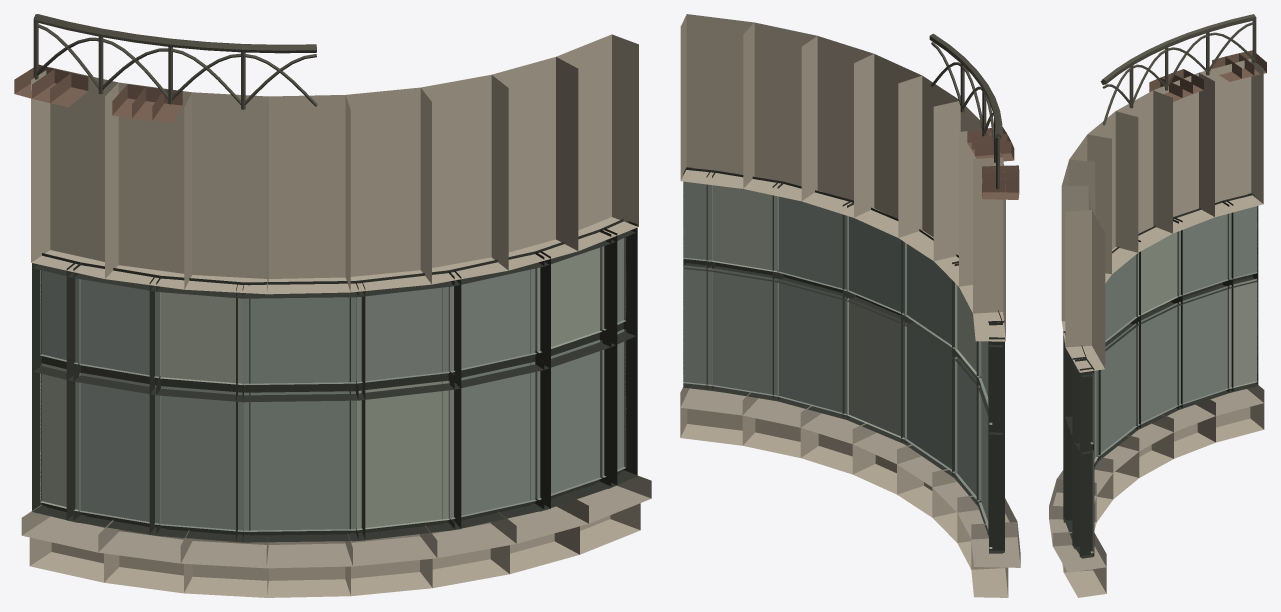
The model's file is jingan-xinzha-1378-no17-curved-steel-window-lod.glb.
The picture shows the model from 3 angles, left to right: view 1: azimuth 30°, elevation 25°; view 2: azimuth 150°, elevation 25°; view 3: azimuth 270°, elevation 25°; orthographic projection. The views are drawn at different scales.
Visible parts, largest first — view 1: 新闸路1378弄17号弧形钢窗与露台铁栏; view 2: 新闸路1378弄17号弧形钢窗与露台铁栏; view 3: 新闸路1378弄17号弧形钢窗与露台铁栏.
Boxes of the visible parts, left/top/right/bottom form: 新闸路1378弄17号弧形钢窗与露台铁栏: left=14, top=14, right=651, bottom=597; 新闸路1378弄17号弧形钢窗与露台铁栏: left=680, top=14, right=1020, bottom=597; 新闸路1378弄17号弧形钢窗与露台铁栏: left=1049, top=14, right=1266, bottom=597.
Size of the model in its own units: 3 by 3.06 by 1.48.
